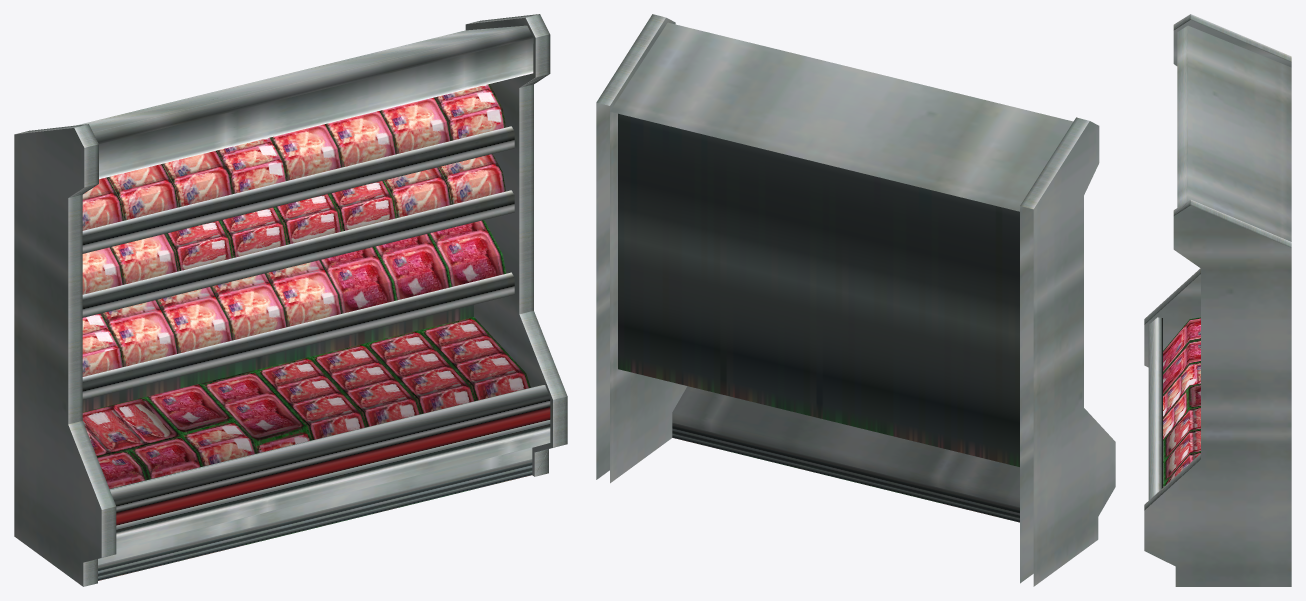
Rendered from meat_shelves01.fbx.
3 renders of one model, left to right at view 1: azimuth 30°, elevation 25°; view 2: azimuth 150°, elevation 25°; view 3: azimuth 270°, elevation 25°, orthographic. The views are drawn at different scales.
Parts seen in each view (by area): view 1: mesh_0; view 2: mesh_0; view 3: mesh_0.
Boxes of the visible parts, left/top/right/bottom form: mesh_0: left=14, top=14, right=567, bottom=586; mesh_0: left=596, top=14, right=1115, bottom=586; mesh_0: left=1144, top=14, right=1291, bottom=586.
Bounding box in the file's own units: 320 × 297 × 104.
1 material, 1 textured.
